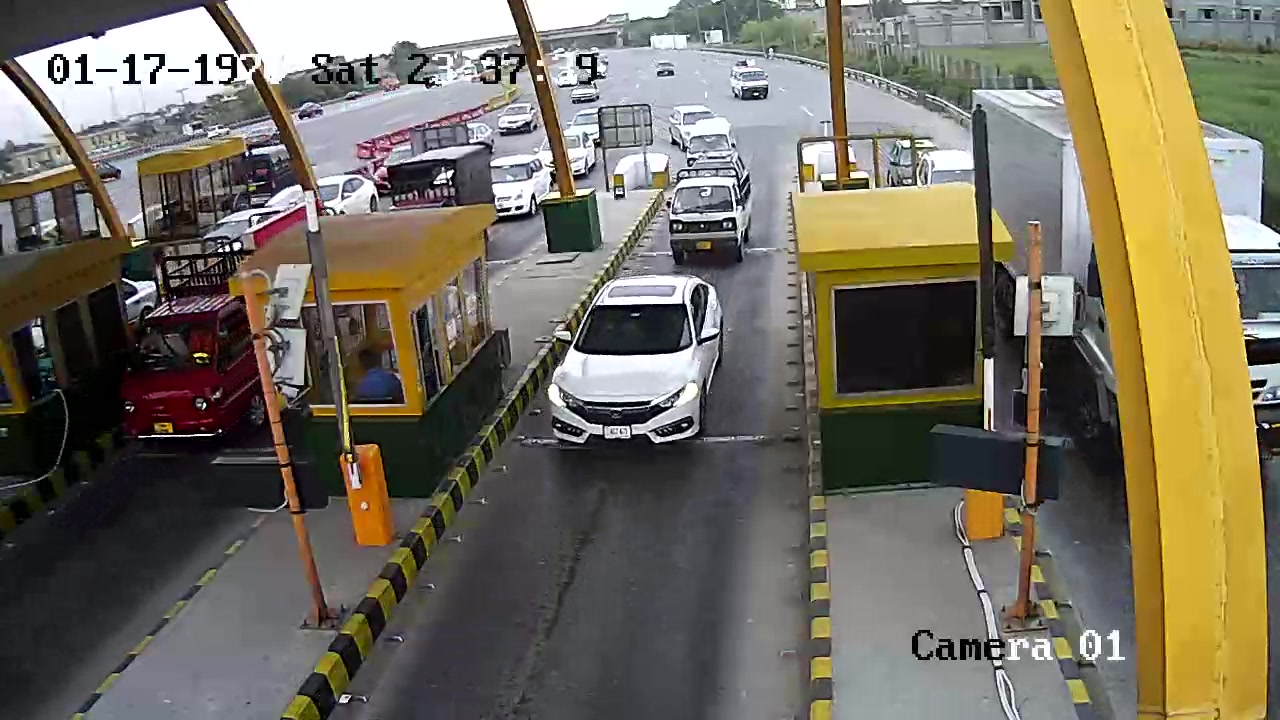F1: (540, 267, 738, 459)
